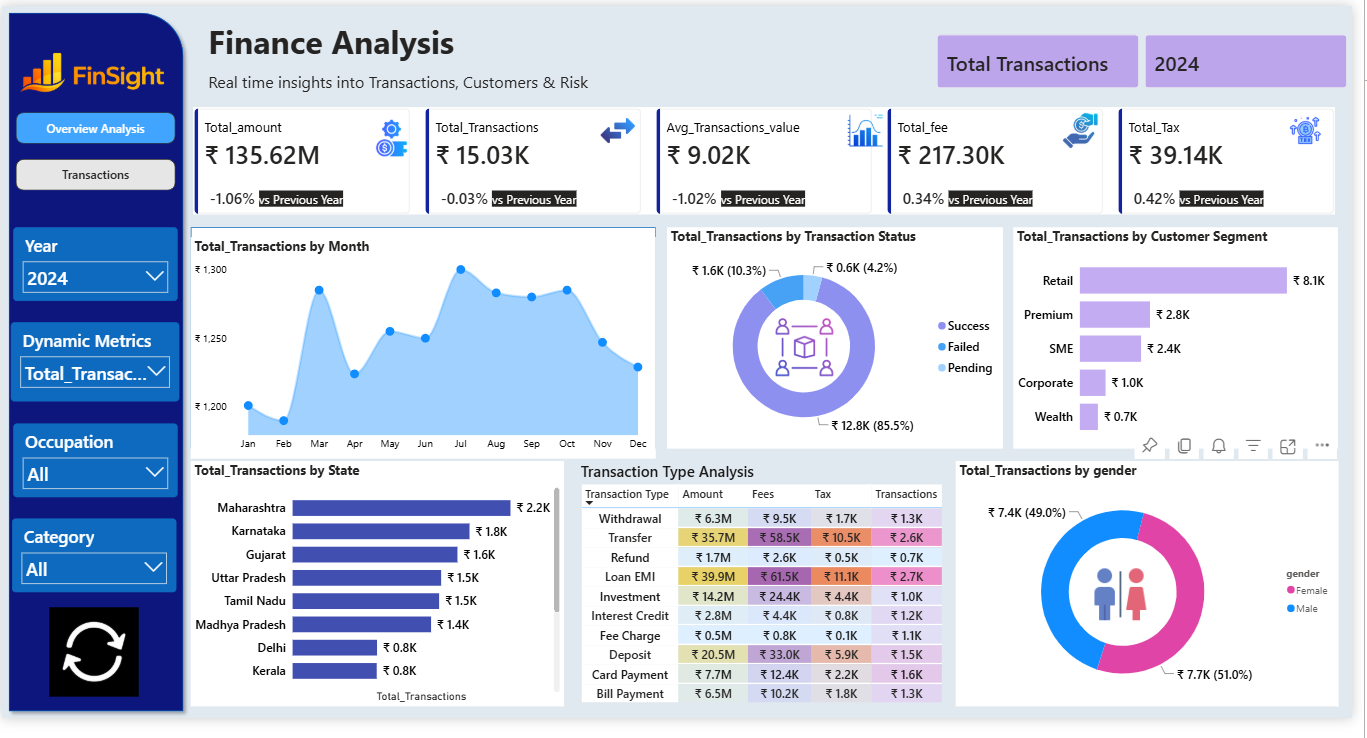

Layout of this report page (visuals, bound fields, positions):
{"tool":"powerbi","page":{"name":"Overview Analysis","canvas":[1800,950],"ordinal":0},"visuals":[{"type":"shape","box":[0,0,250.9,949.4],"z":0},{"type":"image","box":[17.4,13.5,212.3,152.4],"z":1000},{"type":"textbox","box":[270.2,13.5,432.2,67.5],"z":2000},{"type":"textbox","box":[270.2,81,550,69.5],"z":3000},{"type":"slicer","fields":{"Values":["Date Table.Year"]},"box":[15.1,295,219.4,98.3],"z":4000},{"type":"cardVisual","fields":{"Data":["_measure_Table.Total_amount1","_measure_Table.Total_Transactions","_measure_Table.Avg Transactions value","_measure_Table.Total_fee","_measure_Table.Total_Tax"]},"box":[250.2,129.2,1532.2,153.7],"z":5000},{"type":"image","box":[495.5,151.3,49.2,49.2],"z":6000},{"type":"image","box":[796.2,141.8,49.2,49.2],"z":7000},{"type":"image","box":[1412.7,141.8,49.2,49.2],"z":8000},{"type":"image","box":[1127.1,141.8,49.2,49.2],"z":9000},{"type":"image","box":[1713.4,141.8,49.2,49.2],"z":10000},{"type":"slicer","fields":{"Values":["Dynamic Metrics.Dynamic Metrics"]},"box":[11.3,421.7,225,105.9],"z":11000},{"type":"shape","box":[251.5,295,620.3,295],"z":12000},{"type":"areaChart","fields":{"Y":["_measure_Table.Total_Tax"],"Category":["Date Table.Month"]},"box":[251.5,308.3,620.3,295],"z":13000},{"type":"cardVisual","fields":{"Data":["_measure_Table.selected Dynamic Measure","_measure_Table.Selected Year"]},"box":[1242.5,34,557.9,81.3],"z":14000},{"type":"donutChart","fields":{"Y":["_measure_Table.Total_Tax"],"Category":["finance_transactions.transaction_status"]},"box":[887,295,448.2,295],"z":15000},{"type":"barChart","fields":{"Y":["_measure_Table.Total_Tax"],"Category":["customers.customer_segment"]},"box":[1348.4,295,433.1,295],"z":16000},{"type":"barChart","fields":{"Y":["_measure_Table.Total_Tax"],"Category":["customers.state"]},"box":[251.5,607.1,497.4,327.2],"z":17000},{"type":"tableEx","title":"Transaction Type Analysis","fields":{"Values":["finance_transactions.transaction_type","_measure_Table.Total_amount","_measure_Table.Total_fee","_measure_Table.Total_Tax","_measure_Table.Total_Transactions"]},"box":[765.9,607.1,523.9,327.2],"z":18000},{"type":"donutChart","fields":{"Y":["_measure_Table.Total_Tax"],"Category":["customers.gender"]},"box":[1270.9,607.1,510.6,327.2],"z":19000},{"type":"image","box":[1028.8,414.2,83.2,83.2],"z":20000},{"type":"image","box":[1452.4,739.4,79.4,88.9],"z":21000},{"type":"slicer","fields":{"Values":["customers.occupation"]},"box":[15.1,556,219.4,98.3],"z":22000},{"type":"slicer","fields":{"Values":["finance_transactions.merchant_category"]},"box":[13.2,682.7,219.4,98.3],"z":23000},{"type":"pageNavigator","box":[18.9,141.8,213.7,104],"z":24000},{"type":"image","box":[58.6,801.9,128.6,119.1],"z":25000}]}

Visuals, with their boxes on the page's 1800x950 design canvas (x1, y1, x2, y2). These are canvas units, not pixel positions in the 1367x738 screenshot, which may show the page scaled, cropped or inside an application window:
shape: l=0, t=0, r=251, b=949
image: l=17, t=14, r=230, b=166
textbox: l=270, t=14, r=702, b=81
textbox: l=270, t=81, r=820, b=150
slicer - Date Table.Year: l=15, t=295, r=234, b=393
cardVisual - _measure_Table.Total_amount1 x _measure_Table.Total_Transactions: l=250, t=129, r=1782, b=283
image: l=496, t=151, r=545, b=200
image: l=796, t=142, r=845, b=191
image: l=1413, t=142, r=1462, b=191
image: l=1127, t=142, r=1176, b=191
image: l=1713, t=142, r=1763, b=191
slicer - Dynamic Metrics.Dynamic Metrics: l=11, t=422, r=236, b=528
shape: l=252, t=295, r=872, b=590
areaChart - _measure_Table.Total_Tax x Date Table.Month: l=252, t=308, r=872, b=603
cardVisual - _measure_Table.selected Dynamic Measure x _measure_Table.Selected Year: l=1242, t=34, r=1800, b=115
donutChart - _measure_Table.Total_Tax x finance_transactions.transaction_status: l=887, t=295, r=1335, b=590
barChart - _measure_Table.Total_Tax x customers.customer_segment: l=1348, t=295, r=1782, b=590
barChart - _measure_Table.Total_Tax x customers.state: l=252, t=607, r=749, b=934
"Transaction Type Analysis" tableEx: l=766, t=607, r=1290, b=934
donutChart - _measure_Table.Total_Tax x customers.gender: l=1271, t=607, r=1782, b=934
image: l=1029, t=414, r=1112, b=497
image: l=1452, t=739, r=1532, b=828
slicer - customers.occupation: l=15, t=556, r=234, b=654
slicer - finance_transactions.merchant_category: l=13, t=683, r=233, b=781
pageNavigator: l=19, t=142, r=233, b=246
image: l=59, t=802, r=187, b=921
